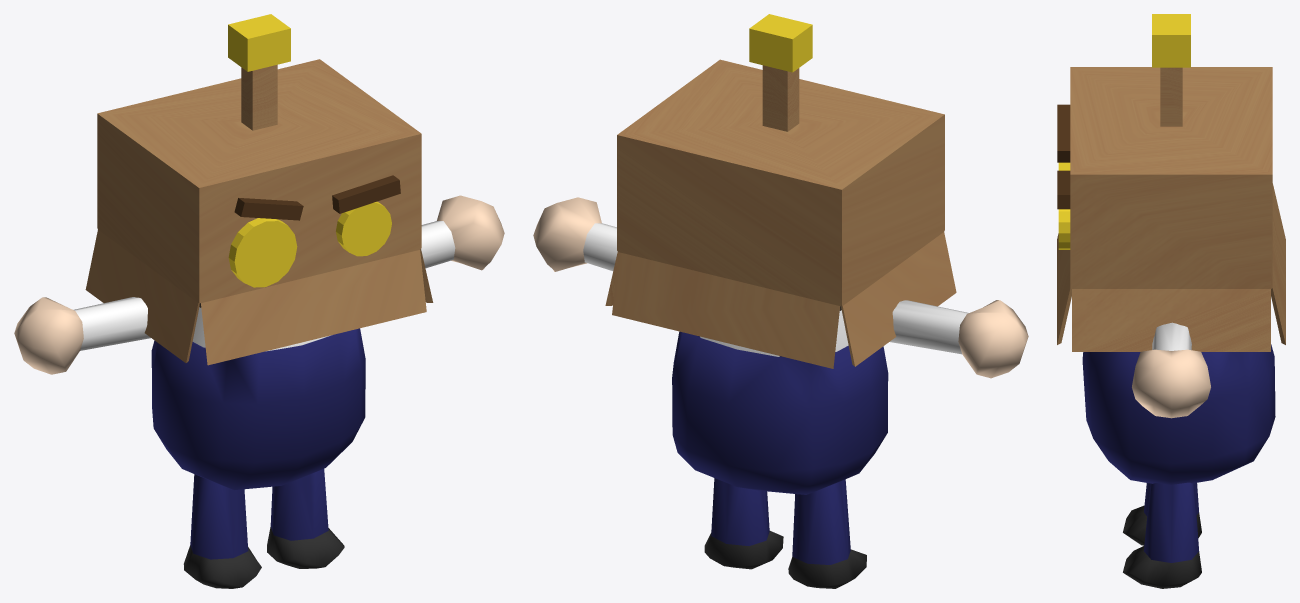
The model's file is player.obj.
The picture shows the model from 3 angles, left to right: view 1: azimuth 30°, elevation 25°; view 2: azimuth 150°, elevation 25°; view 3: azimuth 270°, elevation 25°; orthographic projection.
Parts seen in each view (by area): view 1: 立方体; view 2: 立方体; view 3: 立方体.
Part boxes in pixels (box(x1,y1,x2,y2)): 立方体: box(14, 14, 504, 588); 立方体: box(533, 14, 1028, 588); 立方体: box(1057, 14, 1285, 588).
Bounding box in the file's own units: 3.73 × 4.01 × 1.54.
6 materials, 6 textured.
